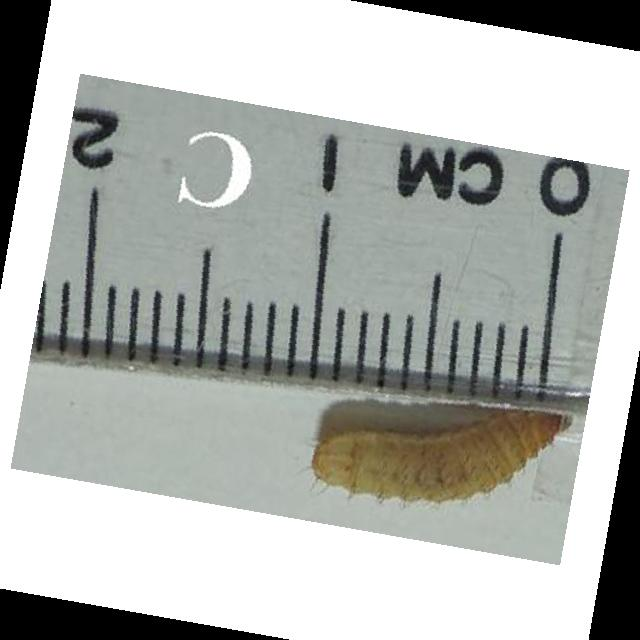Maggot: (314, 414, 573, 495)
